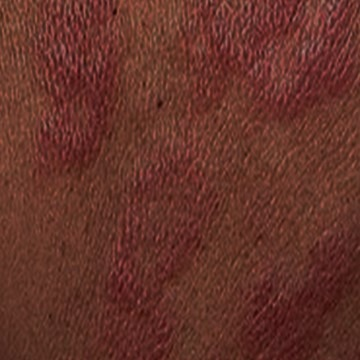Leprosy: (154, 0, 357, 134), (18, 0, 132, 185)
